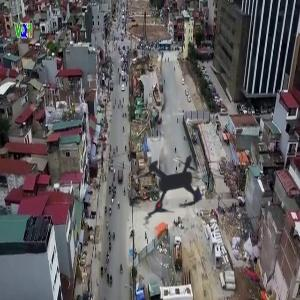drone: (100, 109, 246, 255)
